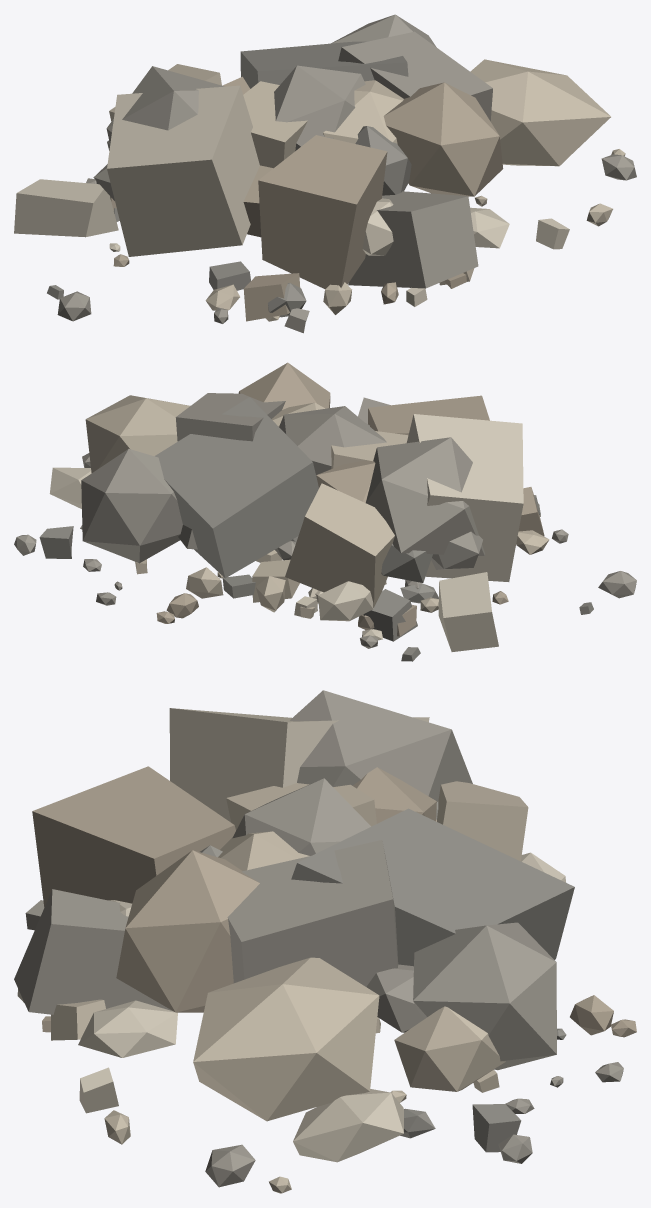
Rendered from preview.glb.
3 views of the same model, one above another, from view 1: azimuth 30°, elevation 25°; view 2: azimuth 150°, elevation 25°; view 3: azimuth 270°, elevation 25° (orthographic). The views are drawn at different scales.
Parts seen in each view (by area): view 1: Pile04 rock023, Pile04 rock002, Pile04 rock022, Pile04 rock000, Pile04 rock014, Pile04 rock005, Pile04 rock026, Pile04 rock018, Pile04 rock017, Pile04 rock001, Pile04 rock011, Pile04 rock025 (+14 smaller); view 2: Pile04 rock017, Pile04 rock023, Pile04 rock001, Pile04 rock006, Pile04 rock020, Pile04 rock000, Pile04 rock026, Pile04 rock018, Pile04 rock005, Pile04 rock002, Pile04 rock022, Pile04 rock003 (+16 smaller); view 3: Pile04 rock000, Pile04 rock017, Pile04 rock002, Pile04 rock005, Pile04 rock022, Pile04 rock006, Pile04 rock023, Pile04 rock001, Pile04 rock014, Pile04 rock028, Pile04 rock004, Pile04 rock018 (+13 smaller).
Part boxes in pixels (x1=…): Pile04 rock023: x1=107, y1=85, x2=259, y2=256; Pile04 rock002: x1=258, y1=135, x2=387, y2=289; Pile04 rock022: x1=383, y1=82, x2=503, y2=196; Pile04 rock000: x1=470, y1=59, x2=610, y2=166; Pile04 rock014: x1=348, y1=191, x2=478, y2=288; Pile04 rock005: x1=338, y1=31, x2=492, y2=121; Pile04 rock026: x1=14, y1=179, x2=118, y2=237; Pile04 rock018: x1=274, y1=65, x2=365, y2=150; Pile04 rock017: x1=240, y1=41, x2=408, y2=88; Pile04 rock001: x1=106, y1=66, x2=224, y2=144; Pile04 rock011: x1=243, y1=81, x2=307, y2=168; Pile04 rock025: x1=323, y1=80, x2=403, y2=144; Pile04 rock017: x1=155, y1=397, x2=318, y2=578; Pile04 rock023: x1=406, y1=414, x2=523, y2=581; Pile04 rock001: x1=366, y1=437, x2=484, y2=555; Pile04 rock006: x1=81, y1=449, x2=182, y2=563; Pile04 rock020: x1=285, y1=483, x2=394, y2=607; Pile04 rock000: x1=85, y1=395, x2=190, y2=472; Pile04 rock026: x1=438, y1=572, x2=498, y2=651; Pile04 rock018: x1=279, y1=406, x2=386, y2=479; Pile04 rock005: x1=175, y1=393, x2=285, y2=441; Pile04 rock002: x1=368, y1=395, x2=489, y2=435; Pile04 rock022: x1=238, y1=362, x2=330, y2=409; Pile04 rock003: x1=318, y1=581, x2=373, y2=621; Pile04 rock000: x1=193, y1=957, x2=379, y2=1121; Pile04 rock017: x1=291, y1=808, x2=574, y2=966; Pile04 rock002: x1=32, y1=766, x2=235, y2=907; Pile04 rock005: x1=227, y1=840, x2=398, y2=986; Pile04 rock022: x1=116, y1=850, x2=259, y2=1012; Pile04 rock006: x1=413, y1=922, x2=556, y2=1070; Pile04 rock023: x1=169, y1=708, x2=429, y2=822; Pile04 rock001: x1=290, y1=690, x2=472, y2=801; Pile04 rock014: x1=14, y1=889, x2=172, y2=1014; Pile04 rock028: x1=394, y1=1006, x2=505, y2=1091; Pile04 rock004: x1=293, y1=1089, x2=403, y2=1162; Pile04 rock018: x1=232, y1=778, x2=370, y2=855.
Bounding box in the file's own units: 1.82 × 0.5259 × 1.24.
